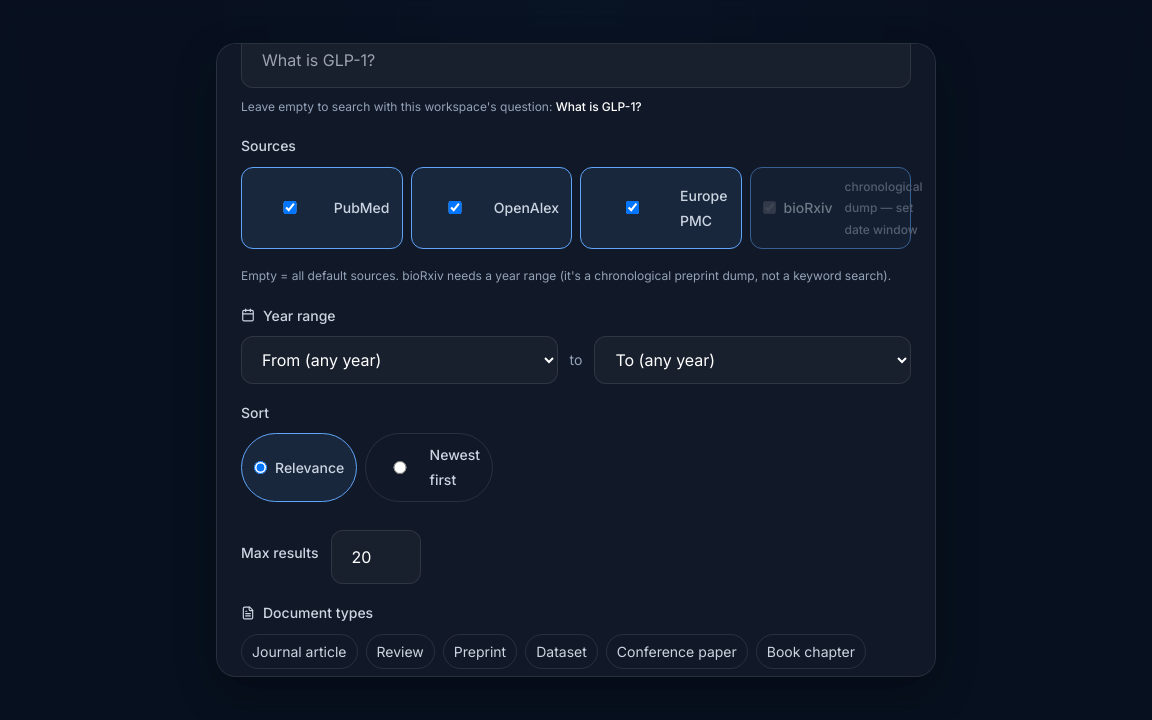
Test case: AdvancedSearchModal › source toggling › enables bioRxiv once a date window is supplied
The image size is (1152, 720).
(page scrolled)
Select "2020" in the 1st dropdown at coordinates (399, 360), box x1=241 y1=336 x2=558 y2=384
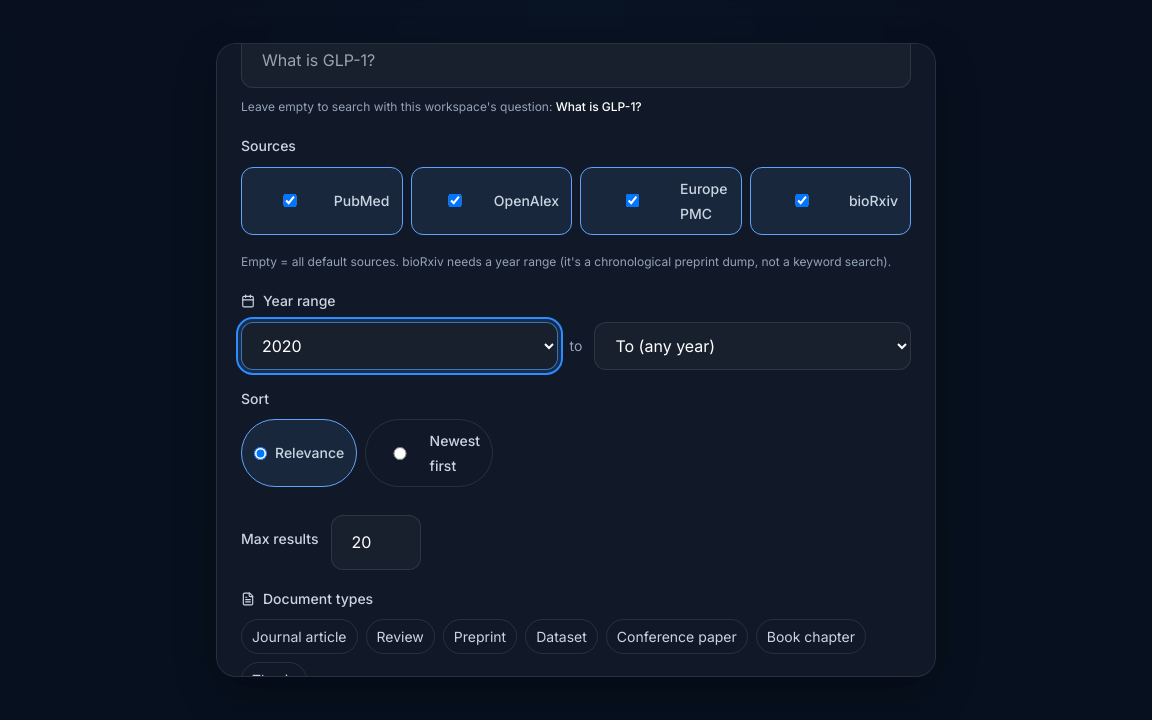
Now the checkbox labelled "bioRxiv" is enabled, box x1=762 y1=194 x2=841 y2=207
